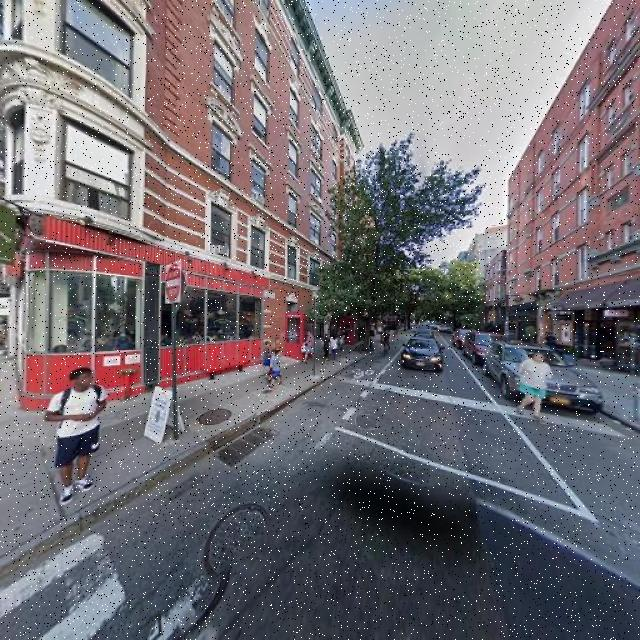Building: (44, 1, 355, 420), (509, 1, 640, 374)
